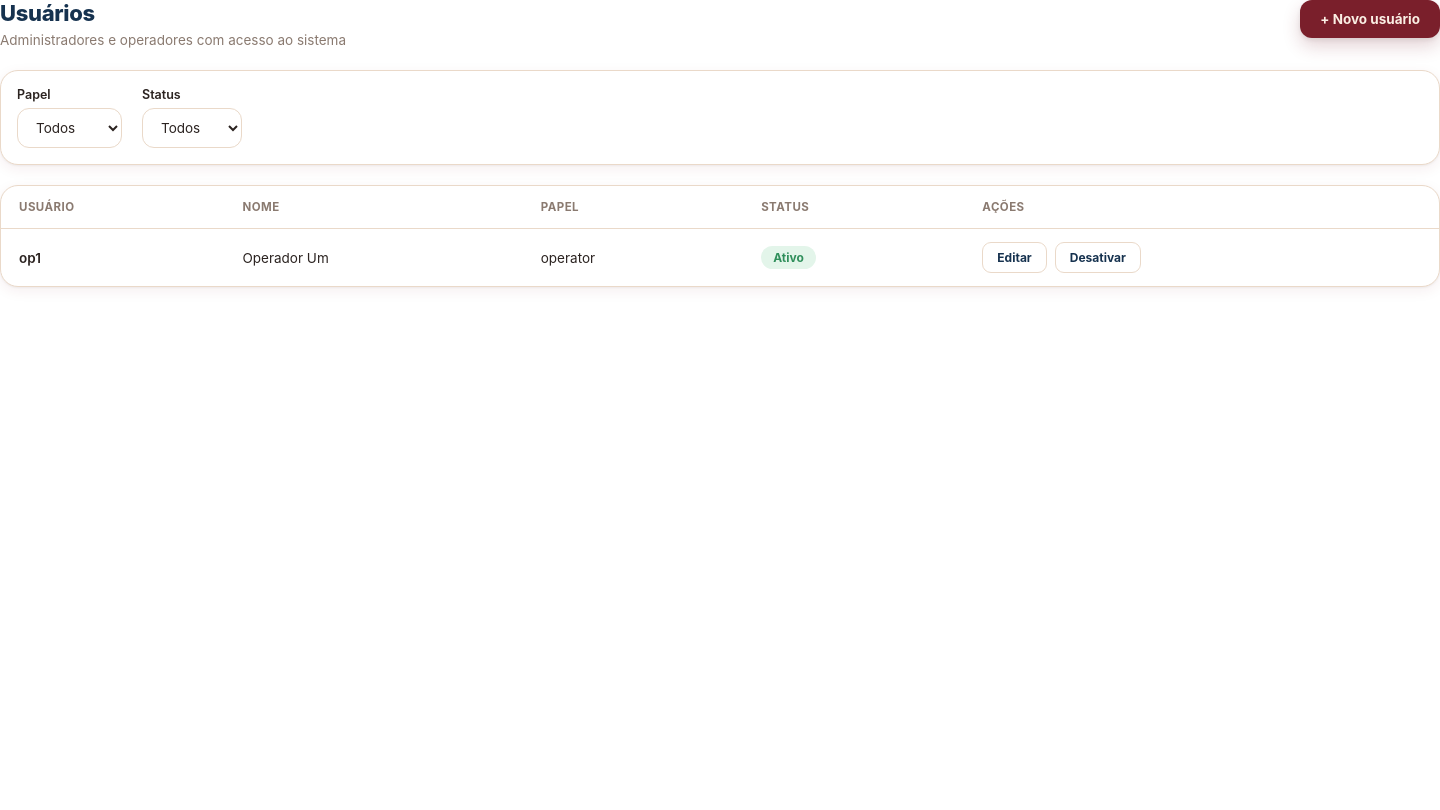
UsersListScreen › salvar no modal atualiza o usuário, fecha o modal e reconsulta a lista
This screenshot has width=1440, height=810.
expect the text "op1" is shown: met, box [1,229,224,286]
Click the button with test id "edit-user-1" at (1014, 258), box [982,242,1047,273]
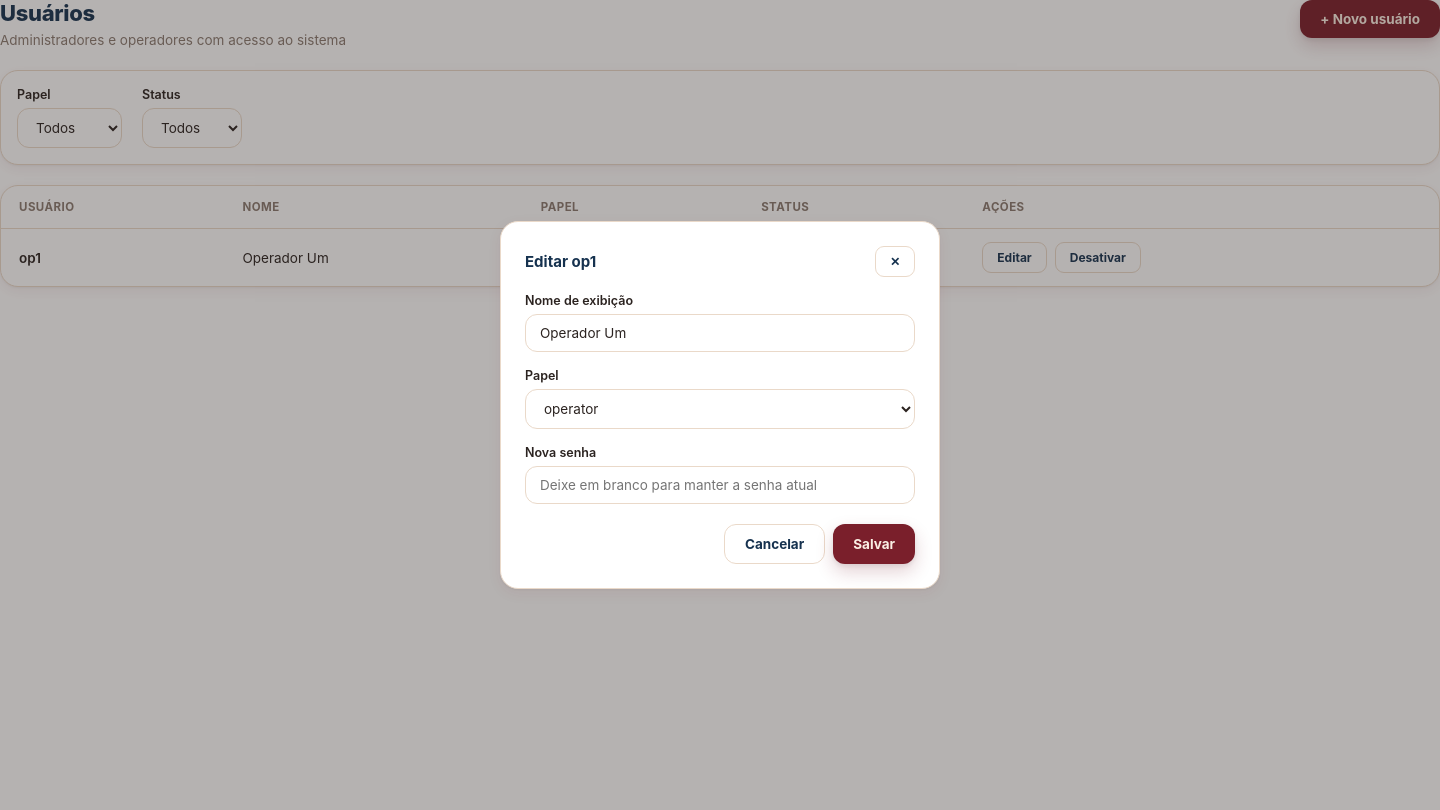
expect the field with test id "edit-user-displayname" is shown: met
Replace the text in the field with test id "edit-user-displayname" with "Novo Nome" at (720, 333), box [525,314,915,352]
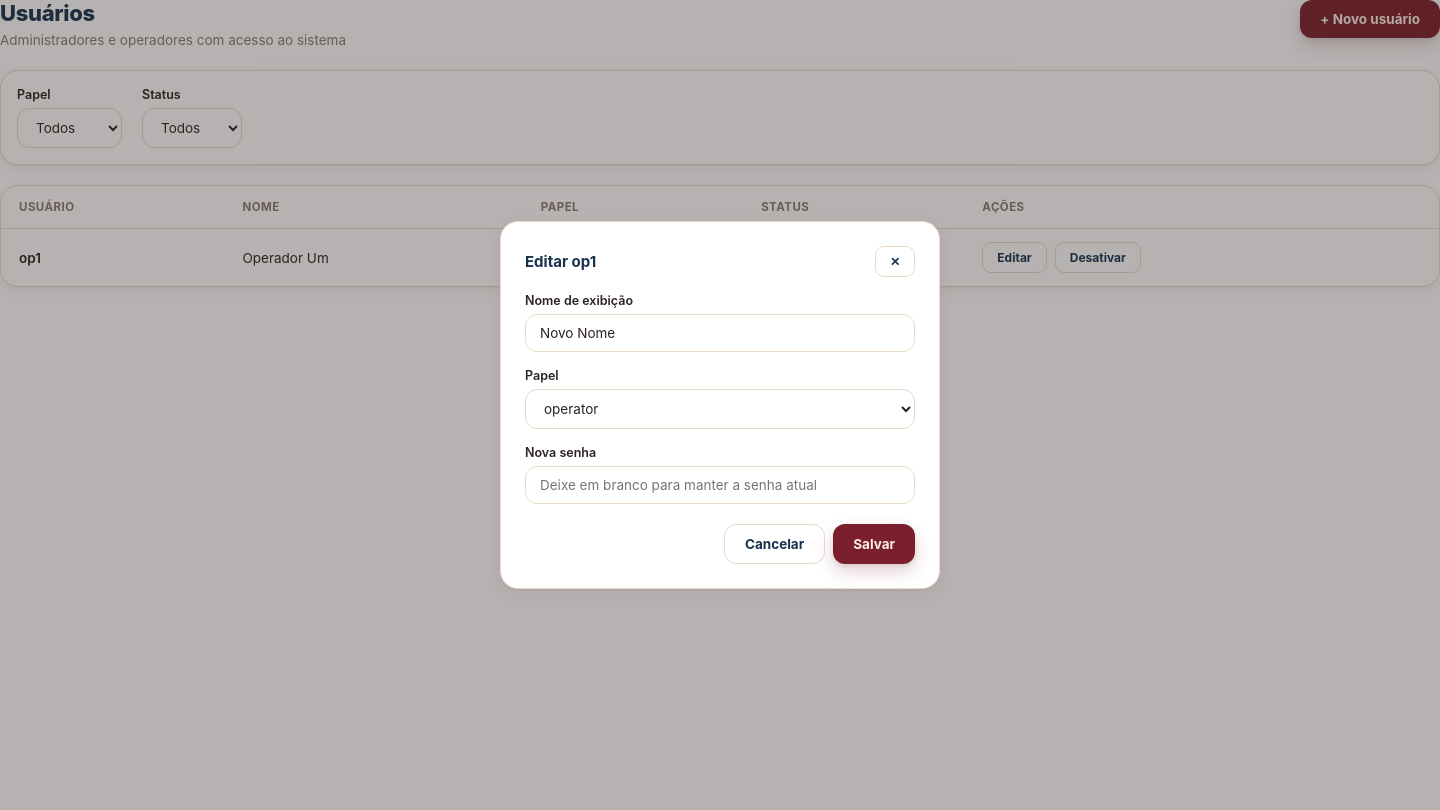
Click the button with test id "edit-user-submit" at (874, 544), box [833,524,915,564]
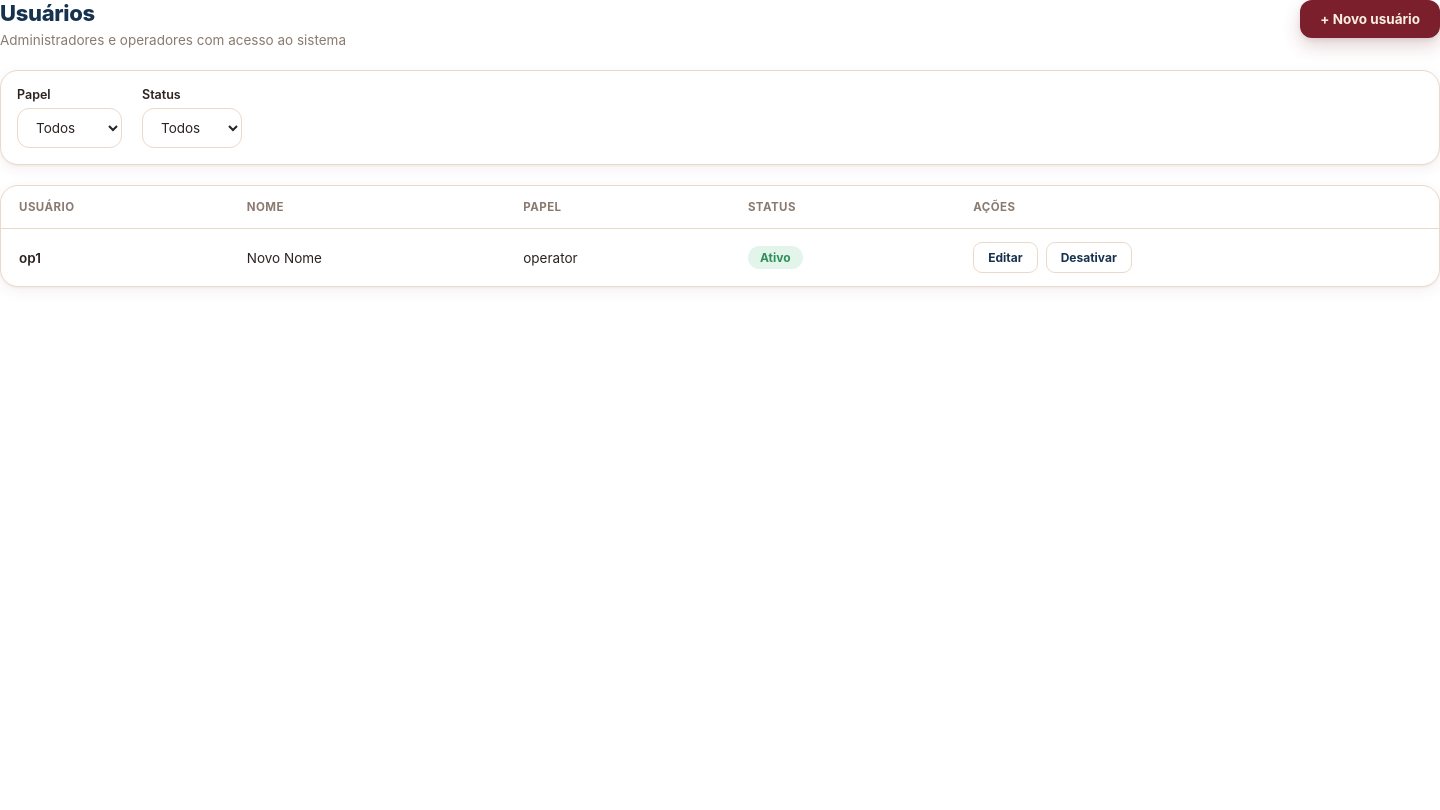
expect the field with test id "edit-user-displayname" is gone: met
expect the text "Novo Nome" is shown: met, box [229,229,505,286]
